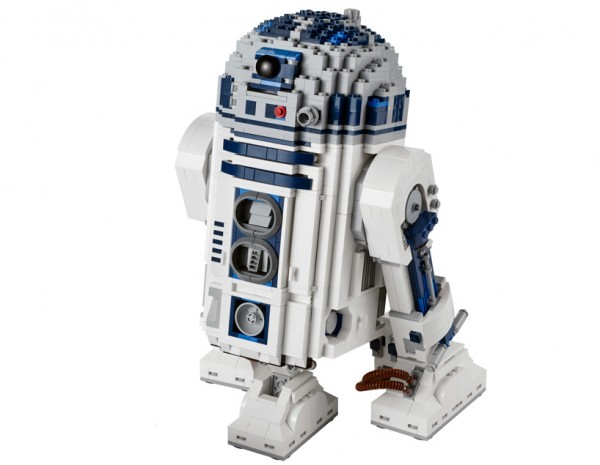r2d2: (180, 7, 488, 455)
